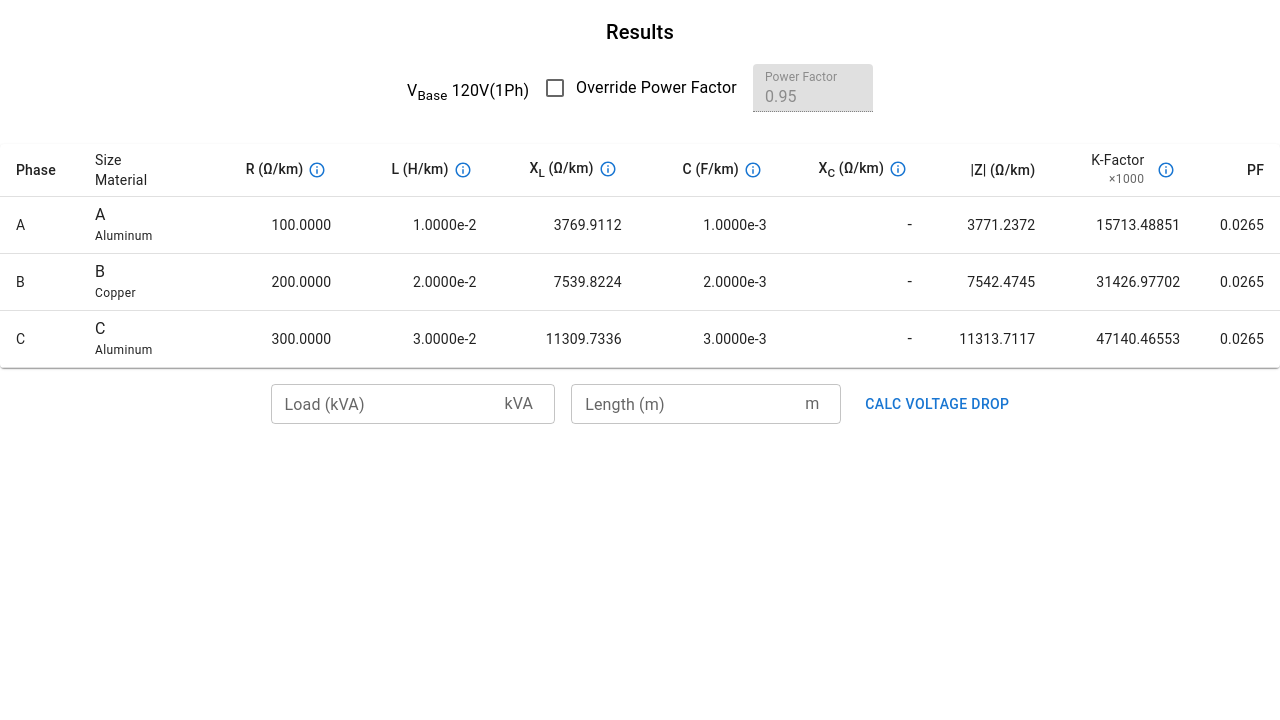
Test: ResultsDisplay Component › calculates and displays voltage drop for valid input
This screenshot has width=1280, height=720.
Step 1. Type "100" into the number field labelled "Load (kVA)" → (388, 404), box [270, 384, 504, 424]
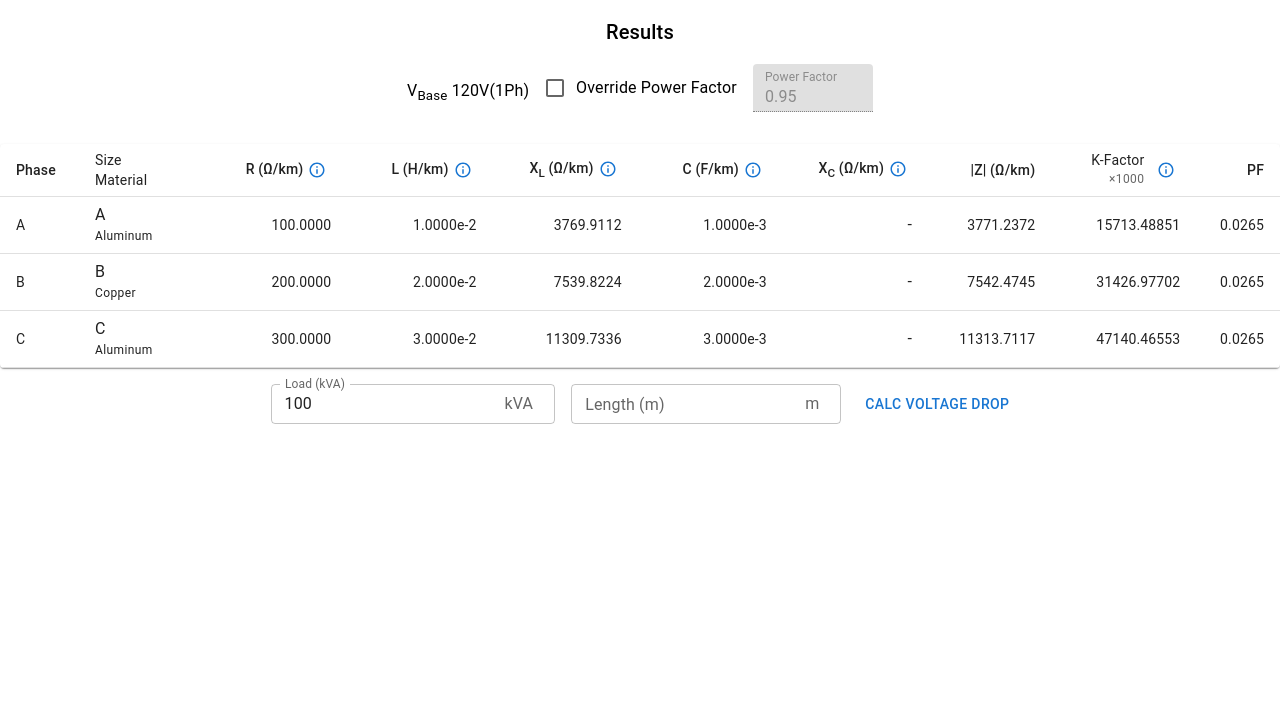
Step 2. Type "1" into the number field labelled "Length (m)" → (688, 404), box [571, 384, 805, 424]
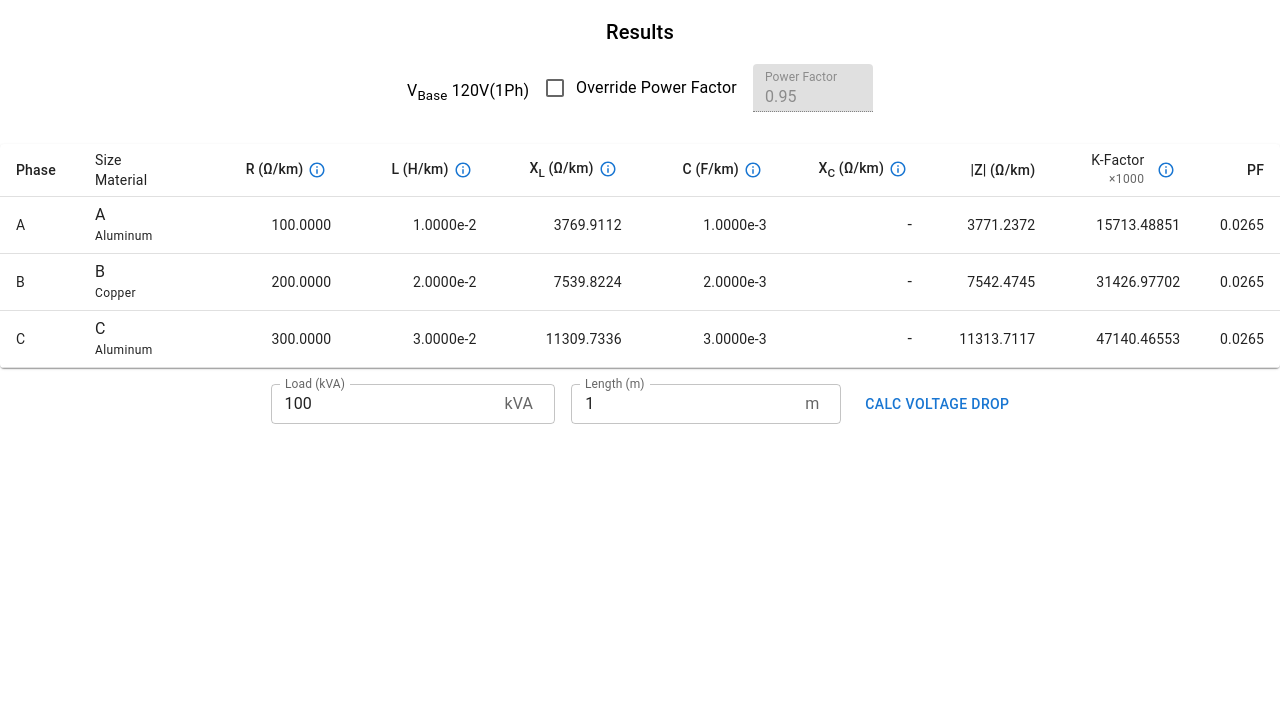
Step 3. Click the button "Calc Voltage Drop" → (937, 404), box [865, 392, 1010, 416]
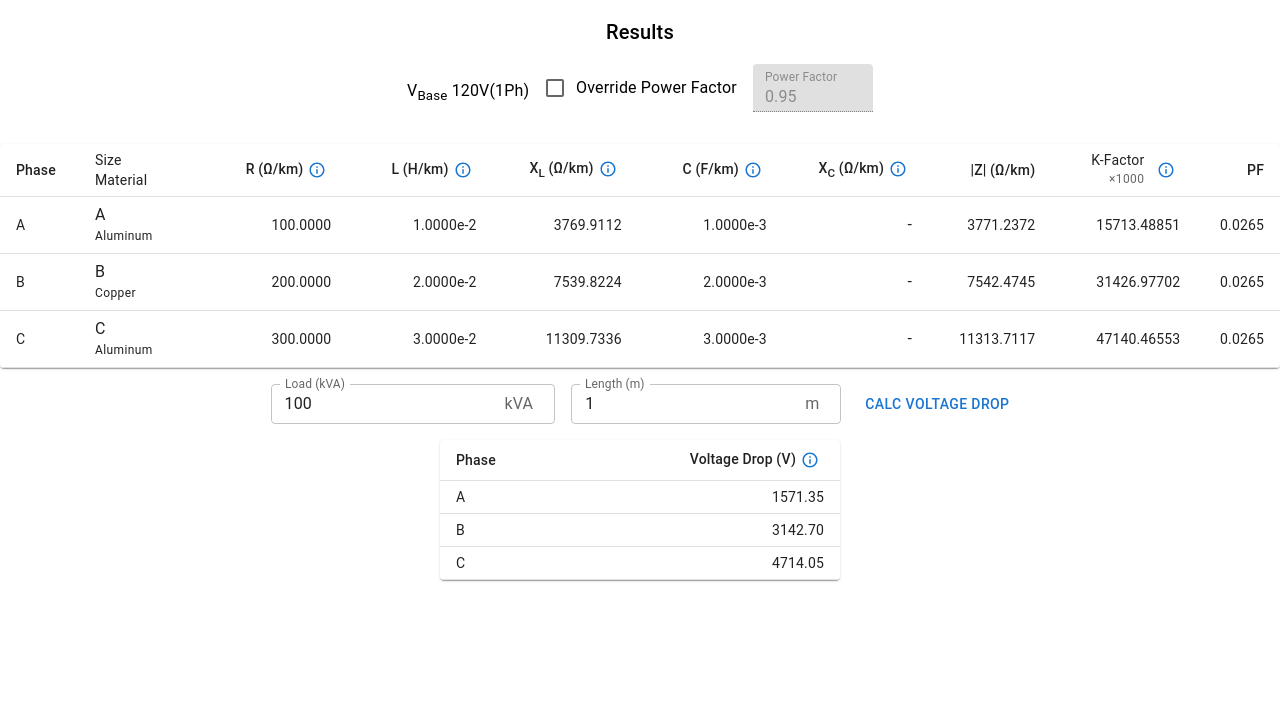
Now the column heading "Voltage Drop (V)" is shown, box [561, 440, 840, 480]
Now the text "Phase Voltage Drop (V) A 1571.35 B 3142.70 C 4714.05" is shown, box [440, 440, 840, 580]
Now the cell "A" in the row of "1571.35" is shown, box [456, 489, 465, 505]
